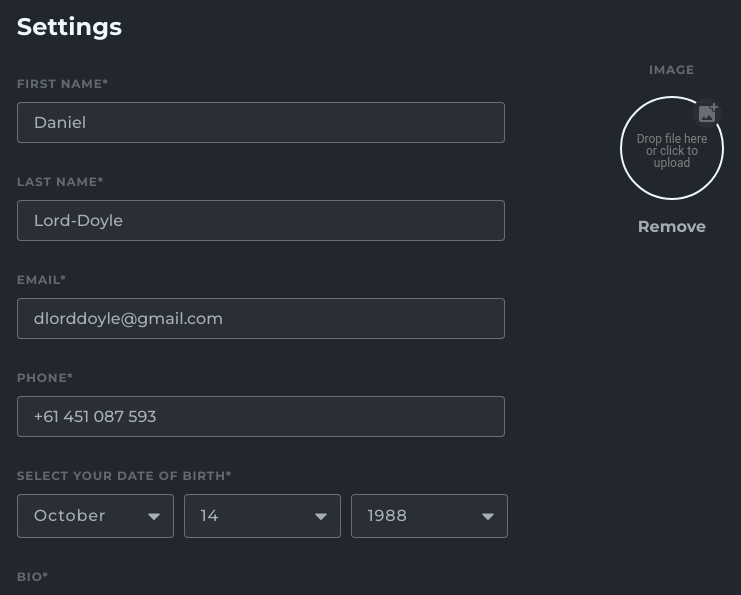
The first name field input › will tell the user that they should check for spaces if there is a space char at the beginning or end of the name if they have rogue space characters there
Replace the text in the field named "firstnameinput" with "  test for space  ". click: [261, 122]
box: [17, 102, 505, 143]
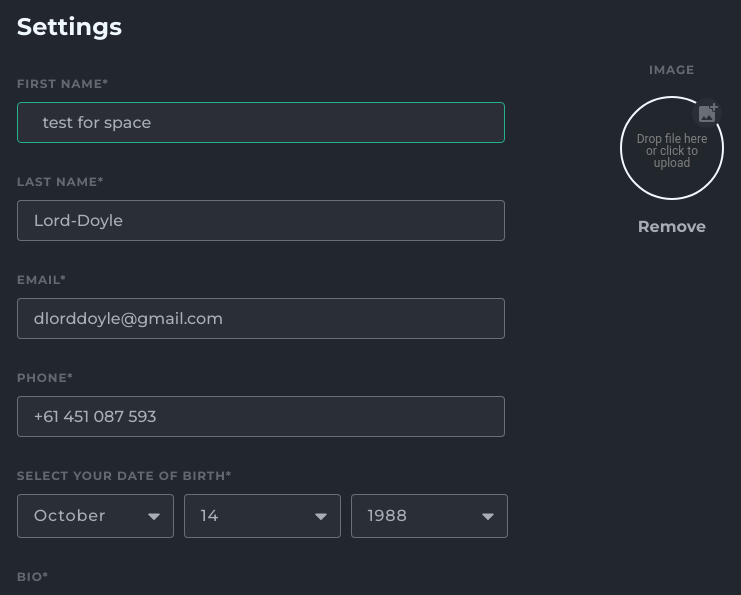
Click the field named "phoneinput". click: [261, 416]
box: [17, 396, 505, 437]
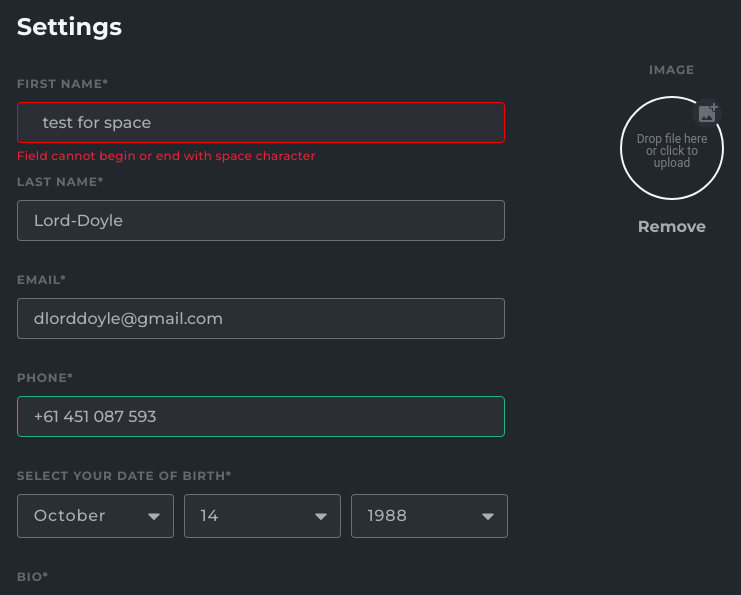
Expected: the text with test id "firstNameErrorMessage" reads "Field cannot begin or end with space character", [17, 148, 316, 163]
